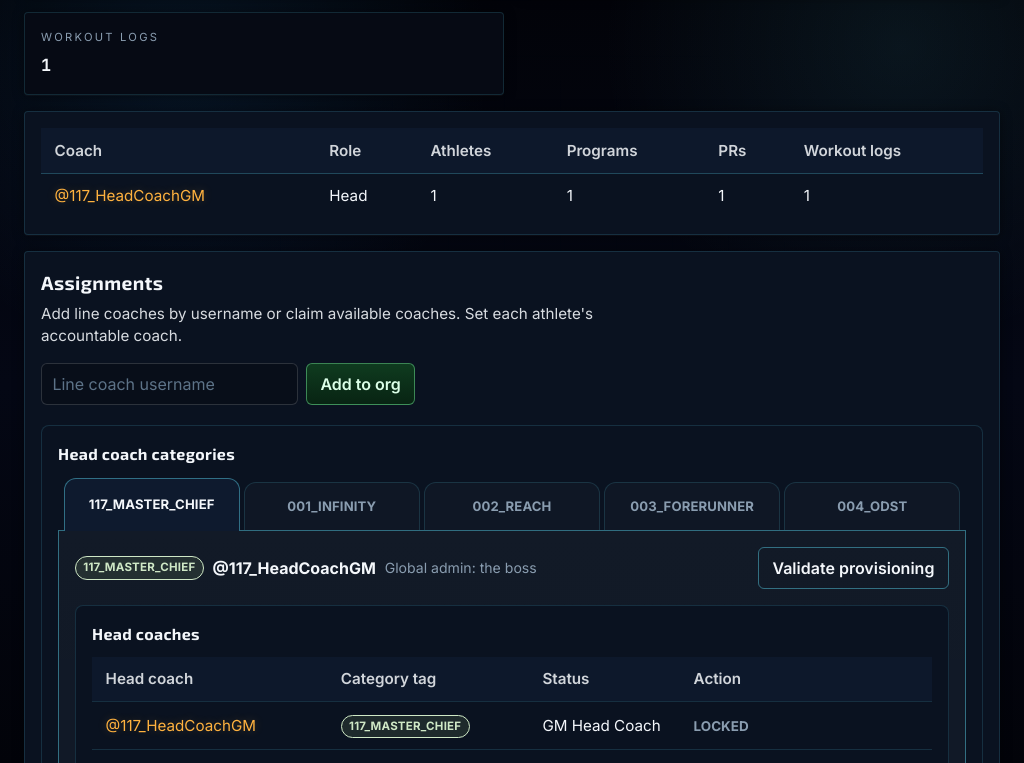
Test: HeadCoachDashboard UAT 3 shell › shows assignment feedback as a hover-pausable toast
(page scrolled)
In the field with placeholder "Line coach username": (169, 384) [41,364,298,405], type "new_line"
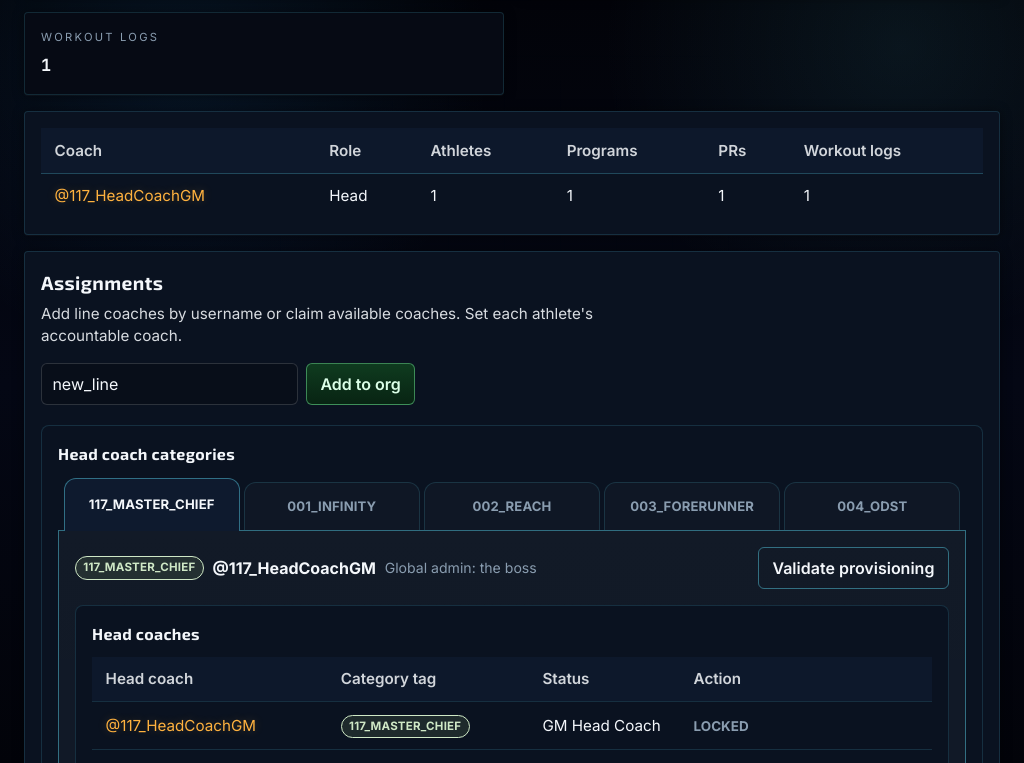
Click the button "Add to org": (361, 384) [306,364,415,405]
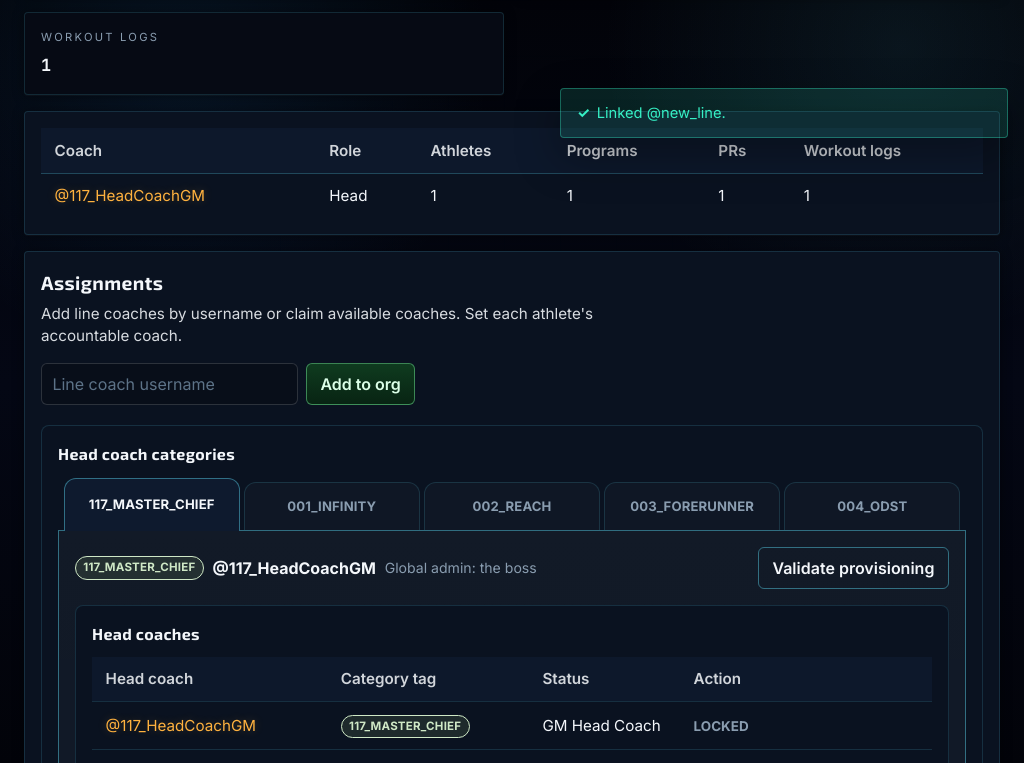
Check: the message reads "Linked @new_line.", box [597,104,726,122]
Hover over the message "Linked @new_line.": (784, 113) [560,88,1008,138]
Check: the message "Linked @new_line." is shown
Move the pointer off the message "Linked @new_line.", box [560,88,1008,138]
Wait 4500 ms
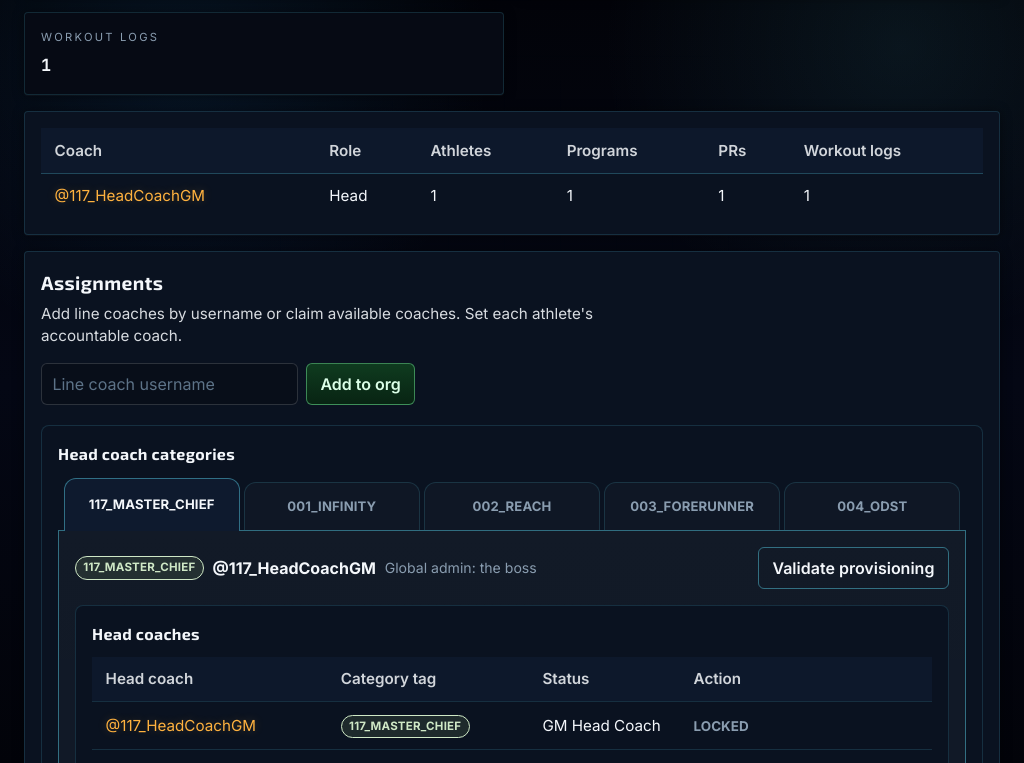
Check: the message "Linked @new_line." is gone
